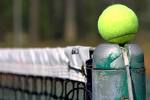tennis ball: (96, 4, 139, 43)
